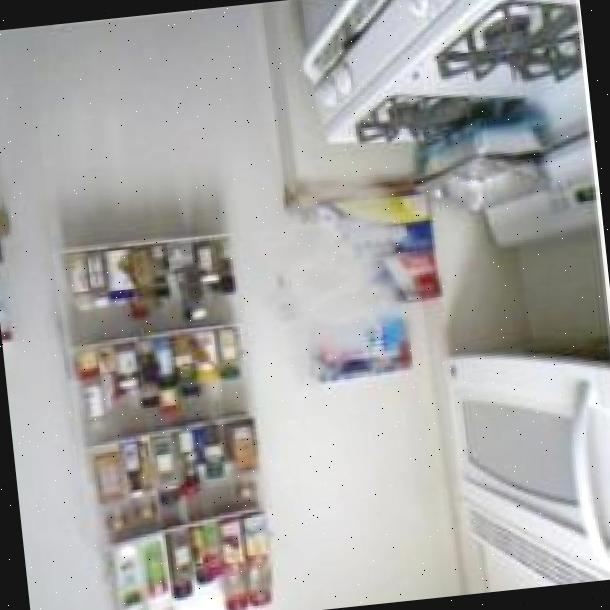smoke: (216, 157, 458, 403)
